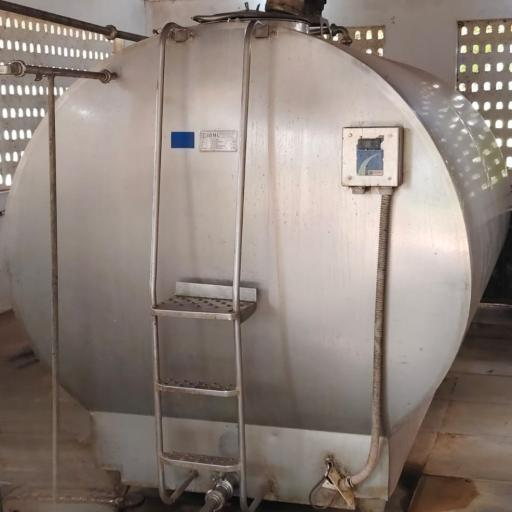silo: (2, 5, 509, 497)
